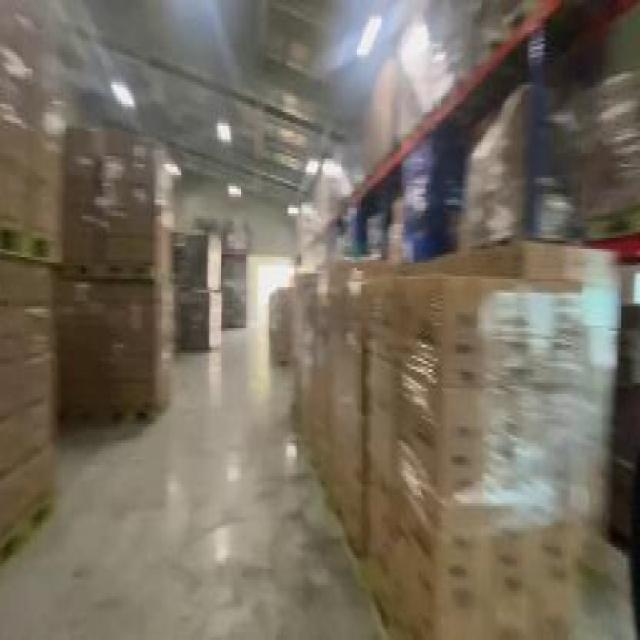box: (292, 241, 618, 637), (58, 120, 175, 427), (0, 0, 65, 536), (557, 74, 638, 252), (459, 101, 526, 246), (168, 218, 226, 356), (218, 224, 252, 326), (266, 279, 297, 369)
